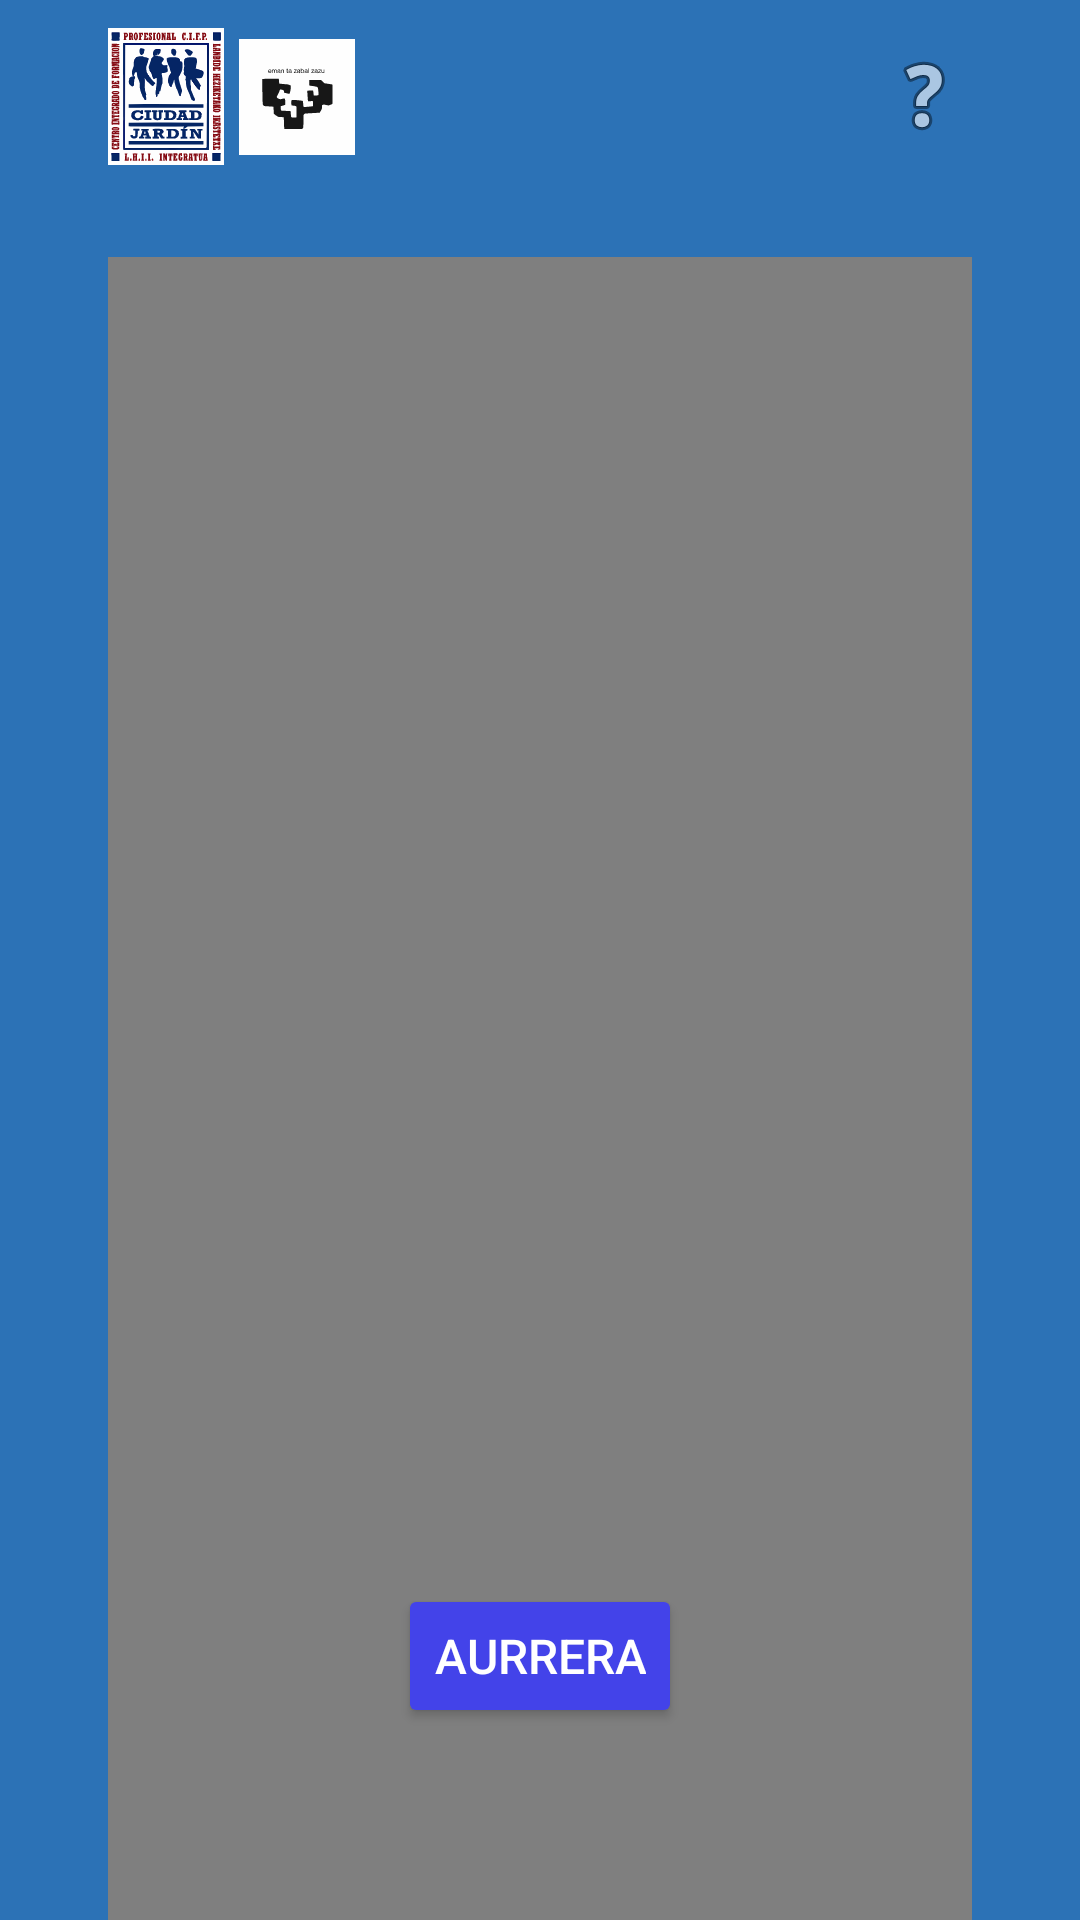

Locate icon controls on the screen. Image size 1080w x 1920h, boxes as {"left": x1, "top": y1, "right": x2, "bottom": y2}.
help: {"left": 903, "top": 62, "right": 945, "bottom": 130}
